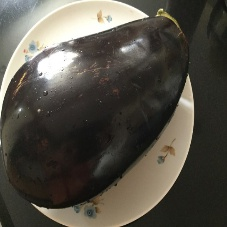eggplant: (5, 12, 190, 209)
